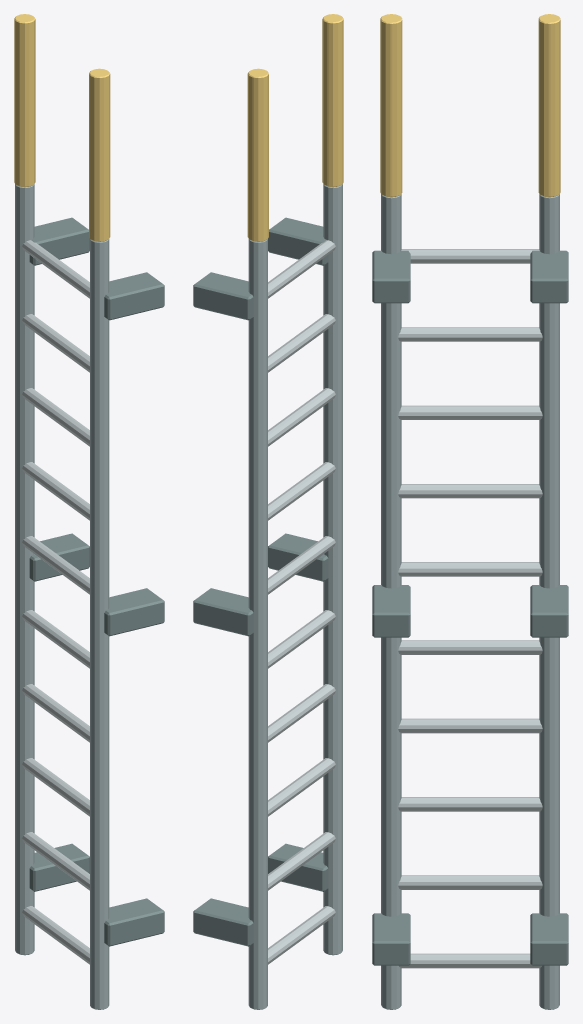
File: Structure-SewerLadder.fbx
3 views of the same model, side by side, from view 1: azimuth 30°, elevation 25°; view 2: azimuth 150°, elevation 25°; view 3: azimuth 270°, elevation 25° (orthographic). The views are drawn at different scales.
Visible parts, largest first — view 1: Ladder Stile, Ladder Stile.001, Tread Rung Mesh, Top Grab Rail, Top Grab Rail.001, Wall Mount.002, Wall Mount, Wall Mount.001, Wall Mount.005, Wall Mount.004, Wall Mount.003; view 2: Ladder Stile.001, Ladder Stile, Tread Rung Mesh, Top Grab Rail.001, Top Grab Rail, Wall Mount.005, Wall Mount.003, Wall Mount.004, Wall Mount.002, Wall Mount.001, Wall Mount; view 3: Tread Rung Mesh, Ladder Stile, Ladder Stile.001, Top Grab Rail, Top Grab Rail.001, Wall Mount.002, Wall Mount.005, Wall Mount.001, Wall Mount.004, Wall Mount, Wall Mount.003.
Part boxes in pixels (bbox=[...]): Ladder Stile: bbox=[90, 239, 109, 1009]; Ladder Stile.001: bbox=[15, 184, 34, 955]; Tread Rung Mesh: bbox=[22, 240, 89, 964]; Top Grab Rail: bbox=[89, 68, 110, 241]; Top Grab Rail.001: bbox=[14, 14, 35, 187]; Wall Mount.002: bbox=[104, 272, 164, 320]; Wall Mount: bbox=[104, 898, 164, 946]; Wall Mount.001: bbox=[104, 588, 164, 636]; Wall Mount.005: bbox=[29, 217, 89, 265]; Wall Mount.004: bbox=[29, 533, 89, 581]; Wall Mount.003: bbox=[29, 843, 89, 891]; Ladder Stile.001: bbox=[248, 239, 267, 1009]; Ladder Stile: bbox=[323, 184, 342, 955]; Tread Rung Mesh: bbox=[268, 240, 335, 964]; Top Grab Rail.001: bbox=[247, 68, 268, 241]; Top Grab Rail: bbox=[322, 14, 343, 187]; Wall Mount.005: bbox=[193, 272, 253, 320]; Wall Mount.003: bbox=[193, 898, 253, 946]; Wall Mount.004: bbox=[193, 588, 253, 636]; Wall Mount.002: bbox=[268, 217, 328, 265]; Wall Mount.001: bbox=[268, 533, 328, 581]; Wall Mount: bbox=[268, 843, 328, 891]; Tread Rung Mesh: bbox=[398, 249, 542, 968]; Ladder Stile: bbox=[381, 194, 401, 1009]; Ladder Stile.001: bbox=[539, 194, 559, 1009]; Top Grab Rail: bbox=[380, 14, 402, 197]; Top Grab Rail.001: bbox=[538, 14, 560, 197]; Wall Mount.002: bbox=[372, 250, 410, 303]; Wall Mount.005: bbox=[530, 250, 568, 303]; Wall Mount.001: bbox=[372, 585, 410, 637]; Wall Mount.004: bbox=[530, 585, 568, 637]; Wall Mount: bbox=[372, 913, 410, 965]; Wall Mount.003: bbox=[530, 913, 568, 965].
Bounding box in the file's own units: 0.2432 × 3.28 × 0.591.
